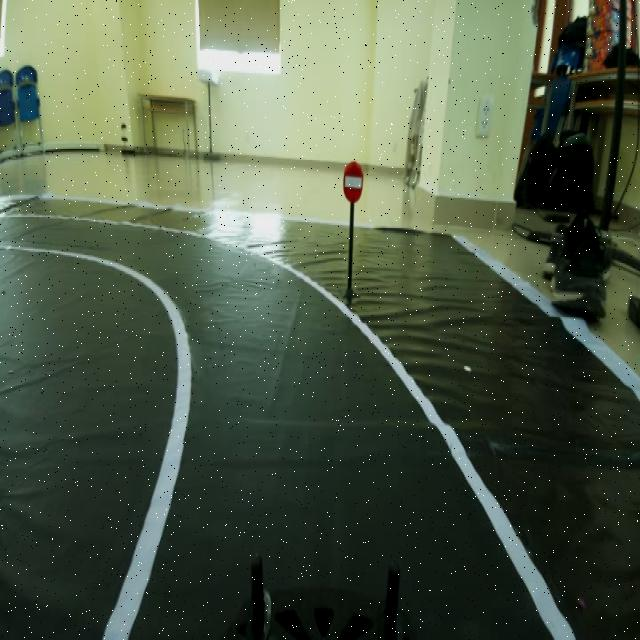no_entry: (336, 157, 373, 207)
